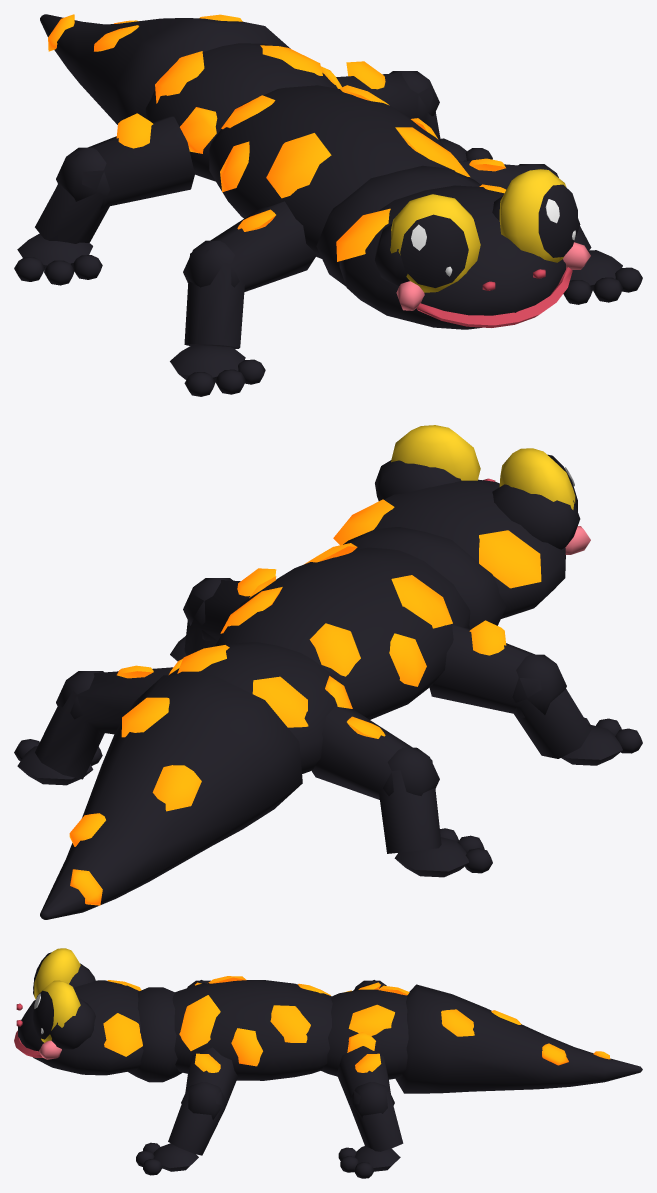
Rendered from salamander.glb.
The picture shows the model from 3 angles, top to bottom: view 1: azimuth 30°, elevation 25°; view 2: azimuth 150°, elevation 25°; view 3: azimuth 270°, elevation 25°; orthographic projection. The views are drawn at different scales.
Parts seen in each view (by area): view 1: body, tail, leg_br, leg_fr, leg_fl, leg_bl; view 2: body, tail, leg_br, leg_fr, leg_bl, leg_fl; view 3: body, tail, leg_bl, leg_fl.
Boxes of the visible parts, x1,y1,x2,y2 form: body: [209, 85, 590, 329]; tail: [40, 14, 341, 181]; leg_br: [14, 113, 194, 285]; leg_fr: [170, 201, 316, 396]; leg_fl: [458, 158, 642, 304]; leg_bl: [336, 61, 492, 161]; body: [214, 425, 590, 719]; tail: [40, 642, 352, 919]; leg_br: [311, 706, 492, 877]; leg_fr: [429, 620, 642, 765]; leg_bl: [14, 665, 172, 785]; leg_fl: [170, 568, 276, 661]; body: [14, 948, 332, 1082]; tail: [321, 984, 642, 1093]; leg_bl: [337, 1046, 403, 1178]; leg_fl: [136, 1047, 238, 1175].
Size of the model in its own units: 0.6911 by 0.2931 by 1.2.
